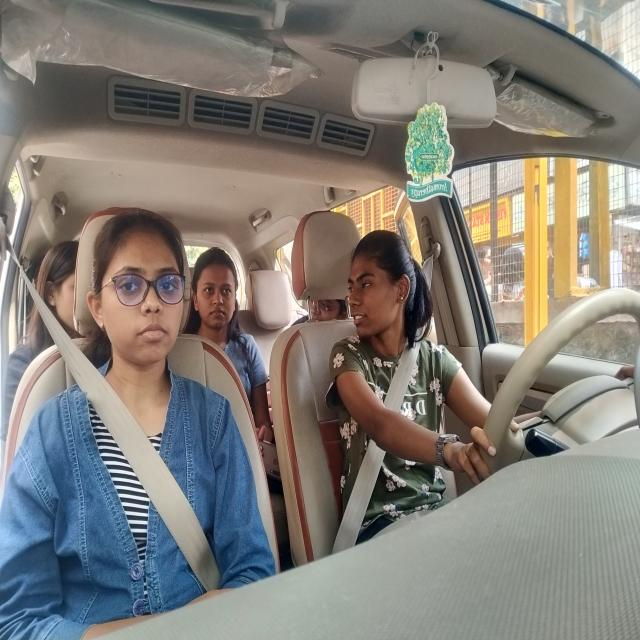LeftRight: (339, 224, 436, 373)
person: (86, 196, 195, 389), (31, 220, 88, 358), (186, 242, 248, 351)
